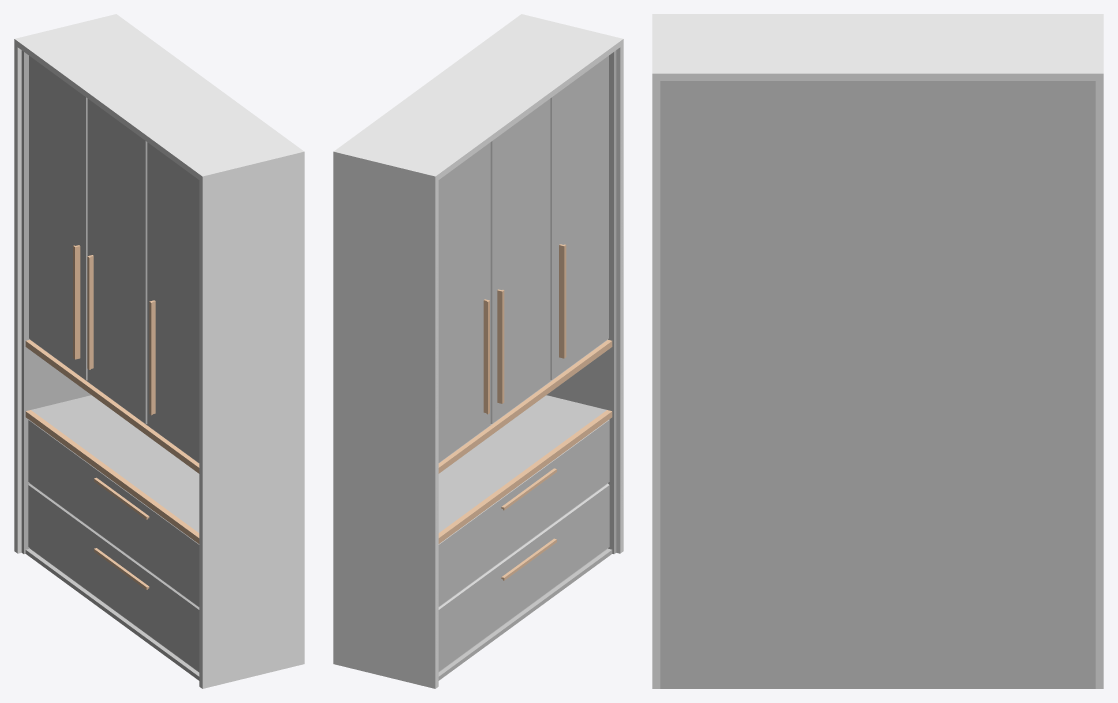
The picture shows the model from 3 angles, left to right: view 1: azimuth 30°, elevation 25°; view 2: azimuth 150°, elevation 25°; view 3: azimuth 270°, elevation 25°; orthographic projection. The views are drawn at different scales.
Parts seen in each view (by area): view 1: SM_H_Residential_Bedroom_Cabinet_01; view 2: SM_H_Residential_Bedroom_Cabinet_01; view 3: SM_H_Residential_Bedroom_Cabinet_01.
Boxes of the visible parts, x1,y1,x2,y2 form: SM_H_Residential_Bedroom_Cabinet_01: (14, 14, 304, 688); SM_H_Residential_Bedroom_Cabinet_01: (333, 14, 623, 688); SM_H_Residential_Bedroom_Cabinet_01: (652, 14, 1103, 688).
Size of the model in its own units: 85.24 by 26.7 by 128.
